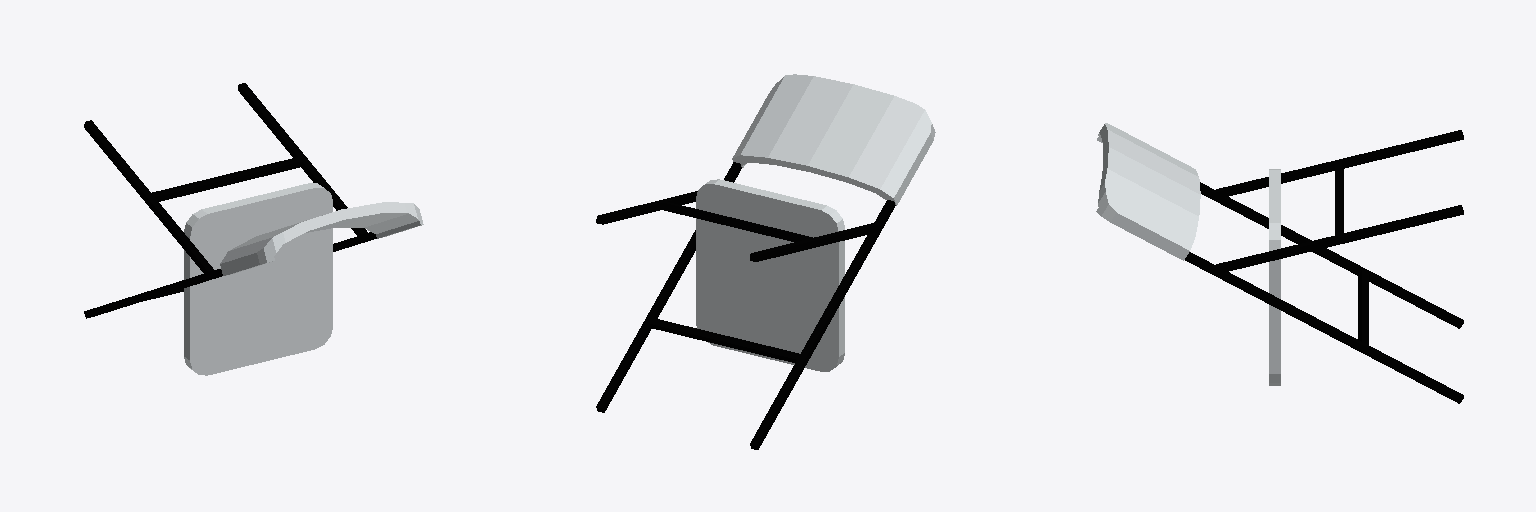
File: Chair.obj
3 renders of one model, left to right at view 1: azimuth 30°, elevation 25°; view 2: azimuth 150°, elevation 25°; view 3: azimuth 270°, elevation 25°, orthographic.
Visible parts, largest first — view 1: chair; view 2: chair; view 3: chair.
Part boxes in pixels (x1,y1,x2,y2): chair: (84, 83, 423, 375); chair: (596, 74, 935, 449); chair: (1096, 123, 1463, 403).
Bounding box in the file's own units: 0.44 × 0.5675 × 0.8659.